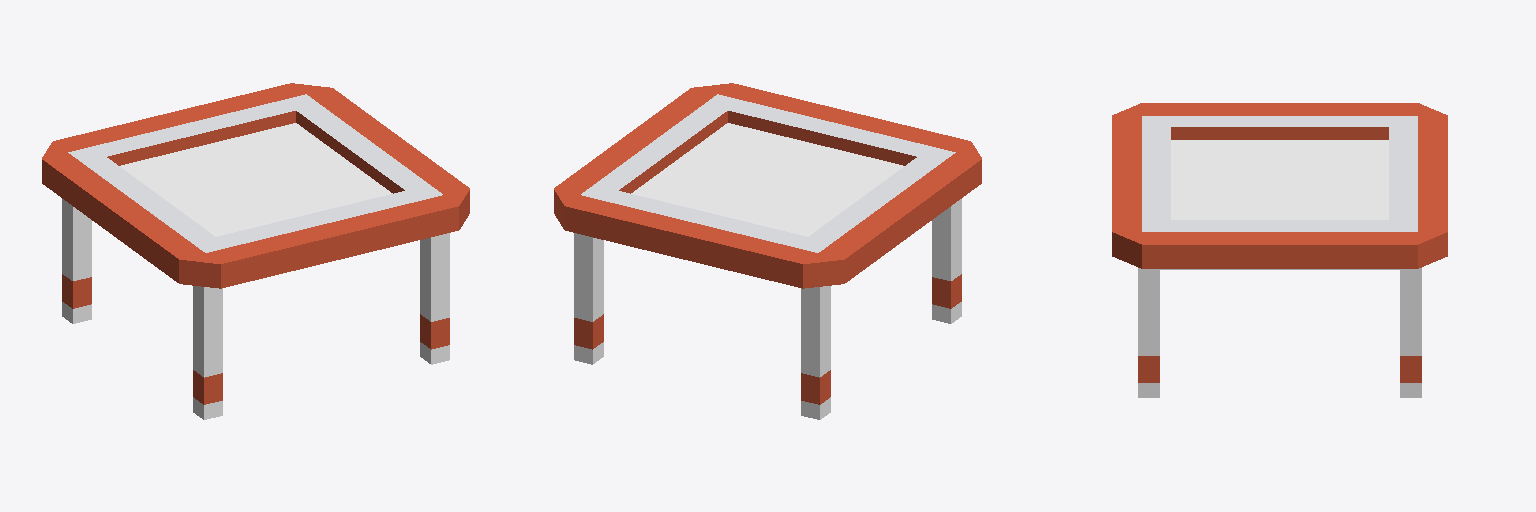
The model's file is frameHighTile.obj.
The picture shows the model from 3 angles: view 1: azimuth 30°, elevation 25°; view 2: azimuth 150°, elevation 25°; view 3: azimuth 270°, elevation 25°; orthographic projection.
Parts seen in each view (by area): view 1: frameHighTile; view 2: frameHighTile; view 3: frameHighTile.
Boxes of the visible parts, box(x1,y1,x2,y2) form: frameHighTile: box(42, 83, 469, 419); frameHighTile: box(554, 83, 981, 419); frameHighTile: box(1112, 103, 1447, 397).
Bounding box in the file's own units: 10 × 5.4 × 10.